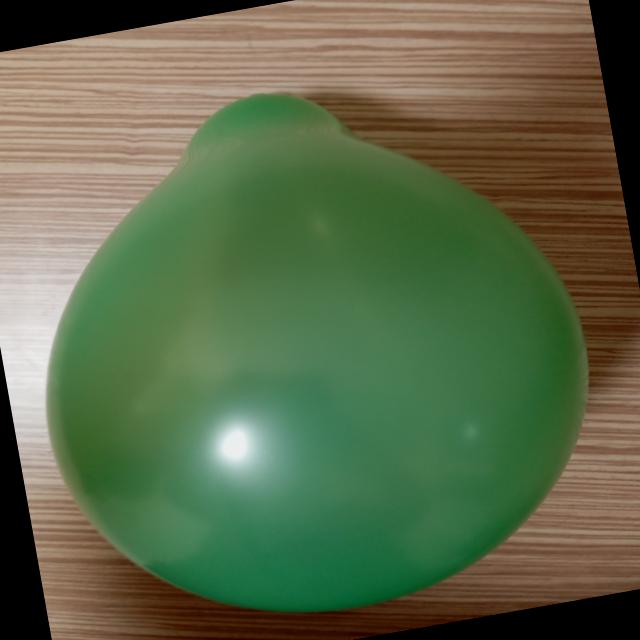balloon: (46, 94, 587, 611)
